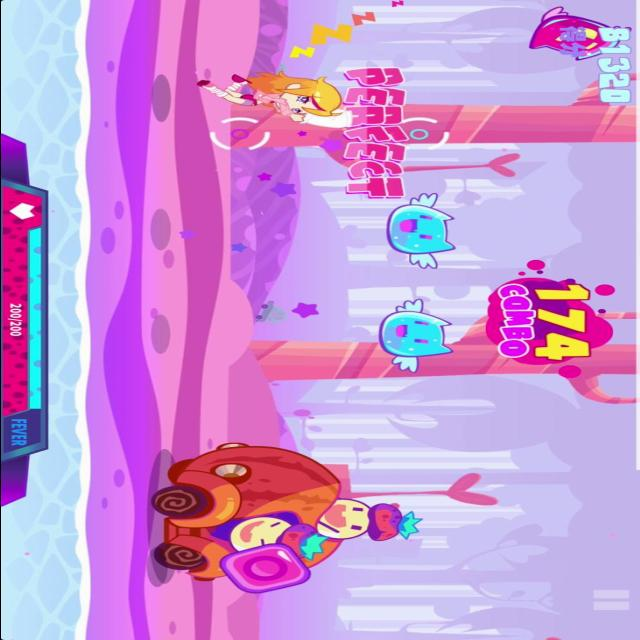cheboss: (148, 440, 426, 584)
kuai: (217, 544, 316, 596)
mao: (382, 190, 464, 272), (374, 296, 459, 374), (518, 6, 634, 62)
